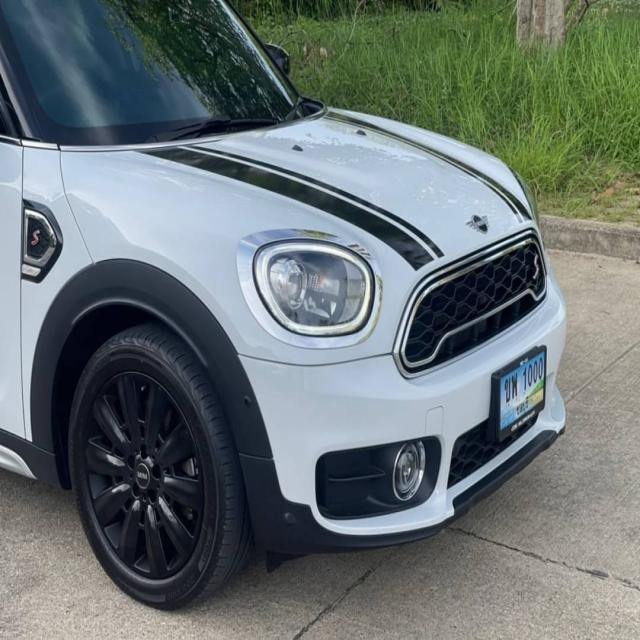license_plate: (489, 344, 550, 442)
